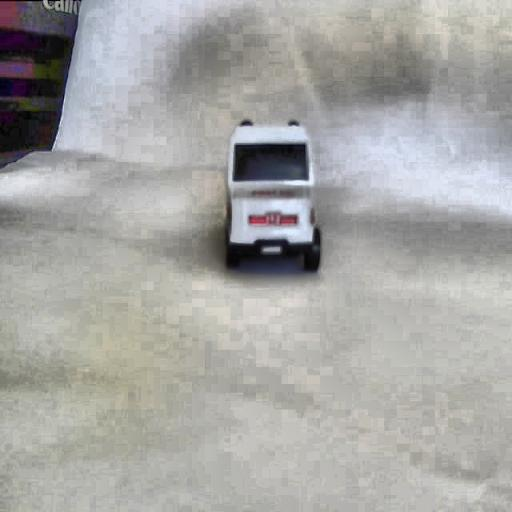ambulance: (224, 118, 321, 271)
